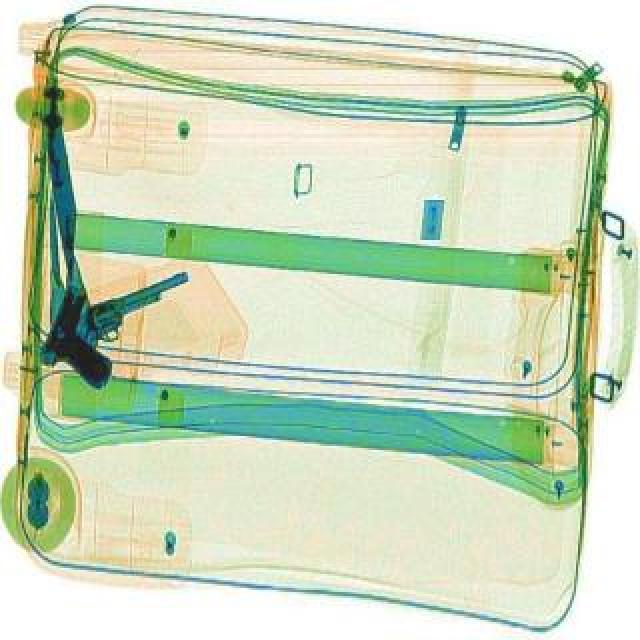gun: (68, 270, 212, 370), (34, 286, 138, 392)
knife: (30, 114, 116, 354)
